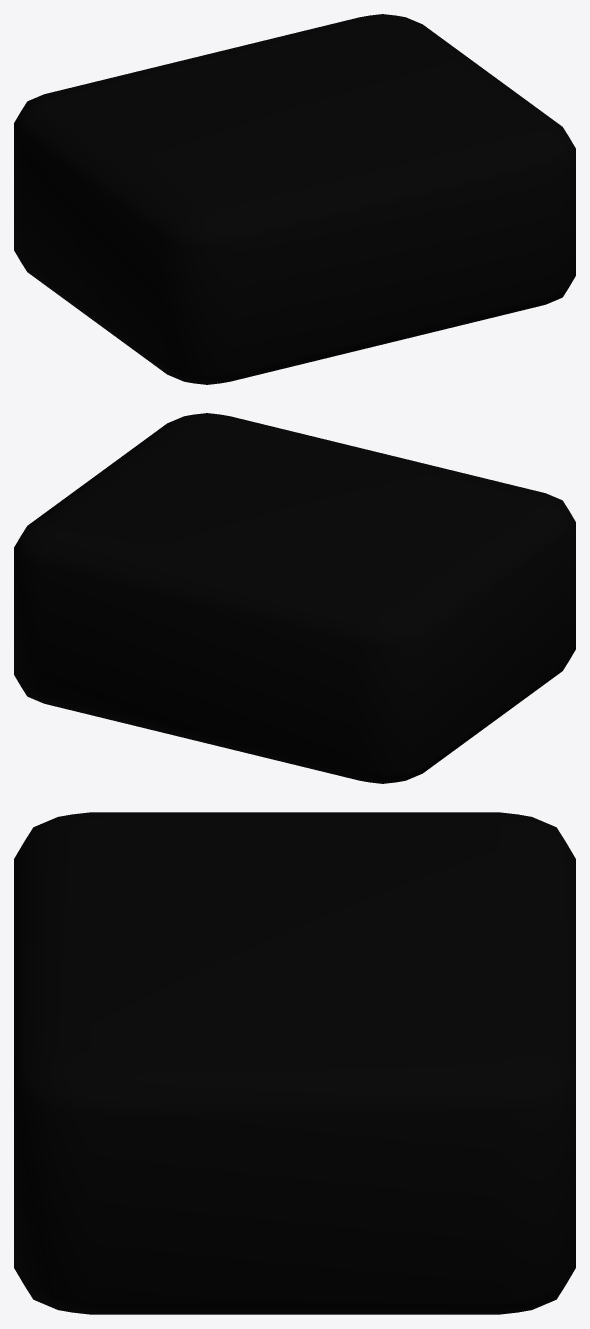
File: GCube.FBX
3 renders of one model, top to bottom at view 1: azimuth 30°, elevation 25°; view 2: azimuth 150°, elevation 25°; view 3: azimuth 270°, elevation 25°, orthographic. The views are drawn at different scales.
Parts seen in each view (by area): view 1: ChamferBox001; view 2: ChamferBox001; view 3: ChamferBox001.
Part boxes in pixels (x1,y1,x2,y2): ChamferBox001: (14, 14, 575, 384); ChamferBox001: (14, 413, 575, 783); ChamferBox001: (14, 812, 575, 1314).
Bounding box in the file's own units: 4.78 × 1.96 × 3.92.
